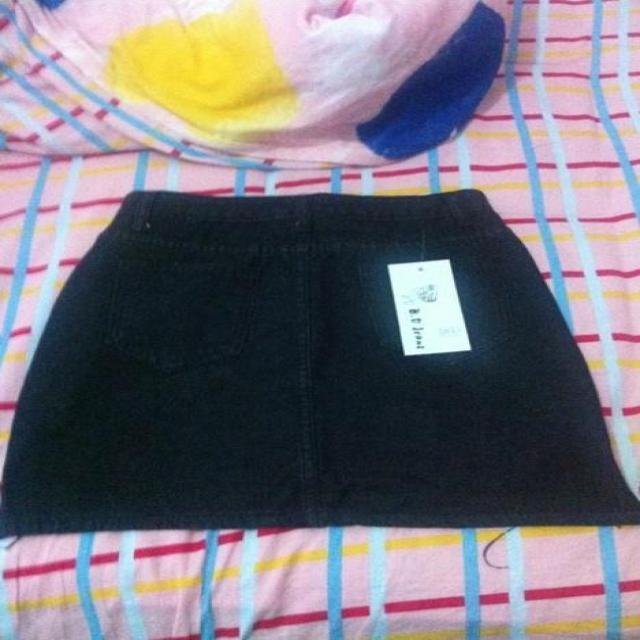skirt: (3, 191, 637, 534)
